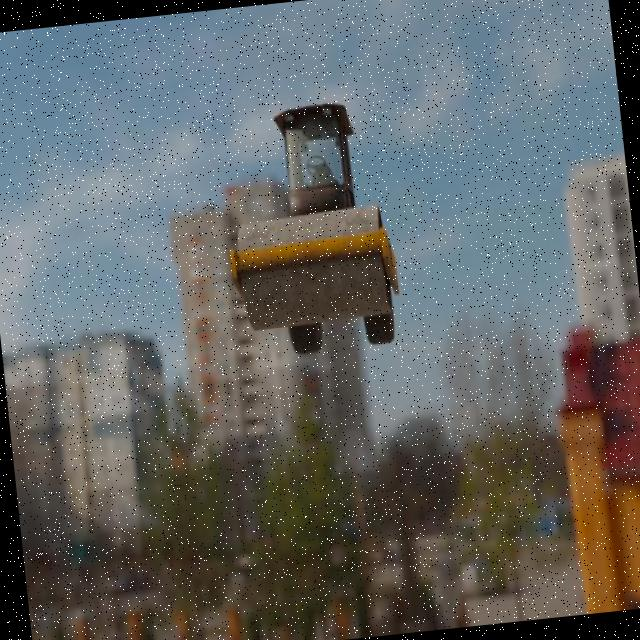Roller: (214, 94, 404, 360)
